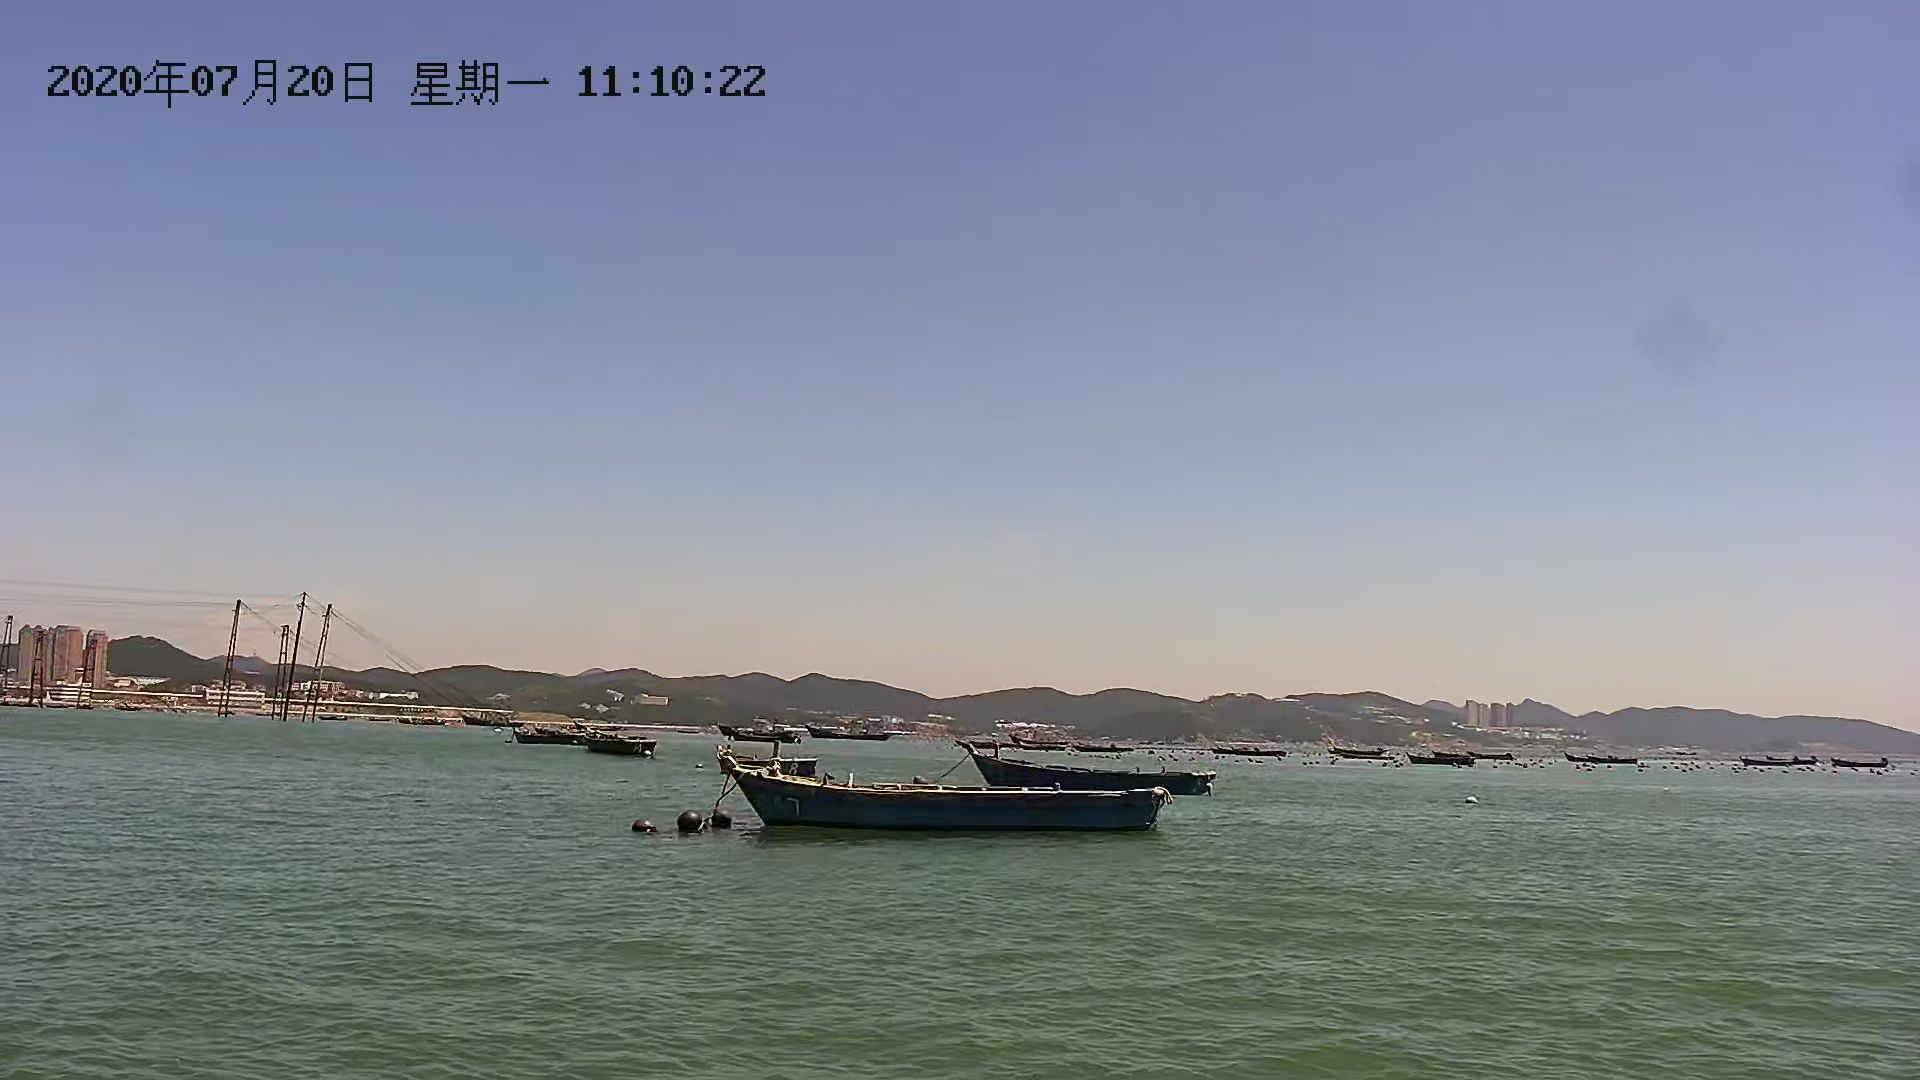ball: (634, 810, 665, 847), (712, 804, 740, 840), (674, 808, 702, 843)
boat: (721, 742, 1174, 843), (971, 731, 1221, 791), (578, 724, 665, 762), (514, 720, 612, 742), (1407, 750, 1477, 765)
